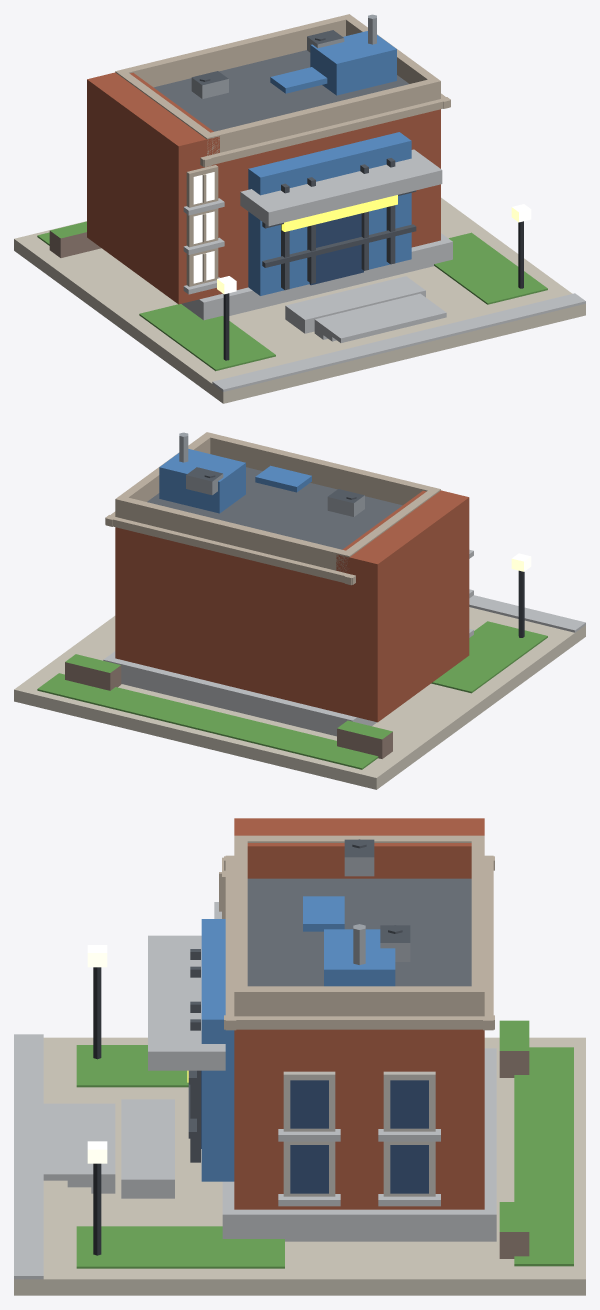
The picture shows the model from 3 angles, top to bottom: view 1: azimuth 30°, elevation 25°; view 2: azimuth 150°, elevation 25°; view 3: azimuth 270°, elevation 25°; orthographic projection. The views are drawn at different scales.
Parts seen in each view (by area): view 1: b22_v2; view 2: b22_v2; view 3: b22_v2.
Boxes of the visible parts, box(x1,y1,x2,y2) form: b22_v2: box(14, 14, 585, 403); b22_v2: box(14, 432, 585, 789); b22_v2: box(14, 818, 585, 1295).
Size of the model in its own units: 0.96 by 0.575 by 0.96.
